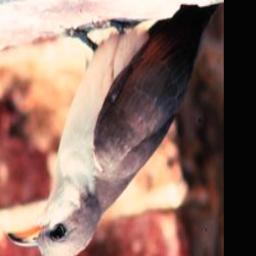Cuckoo: (7, 2, 218, 256)
